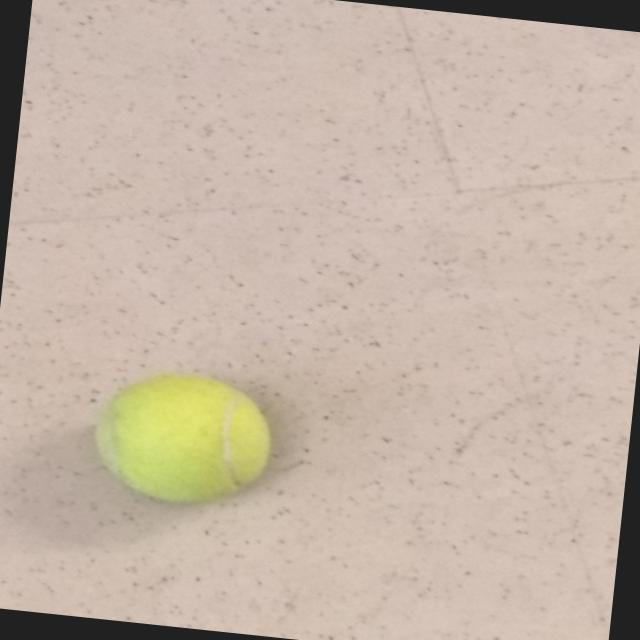Tennis Ball: (87, 368, 278, 512)
